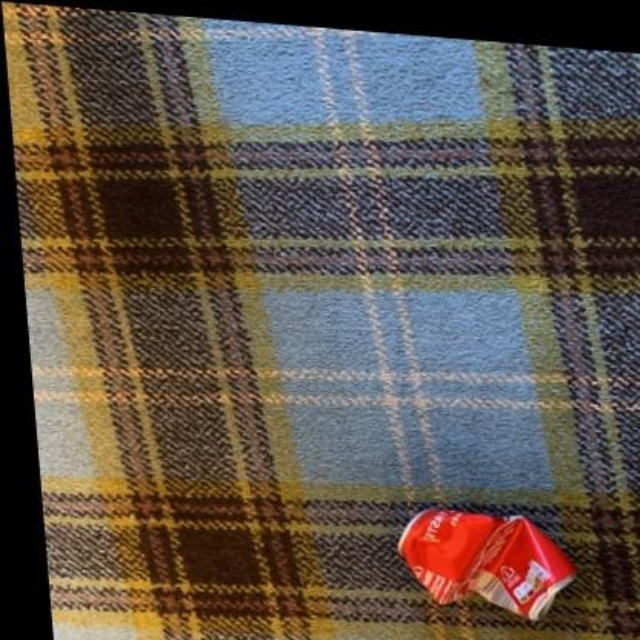trash: (468, 517, 574, 618), (398, 509, 502, 603)
